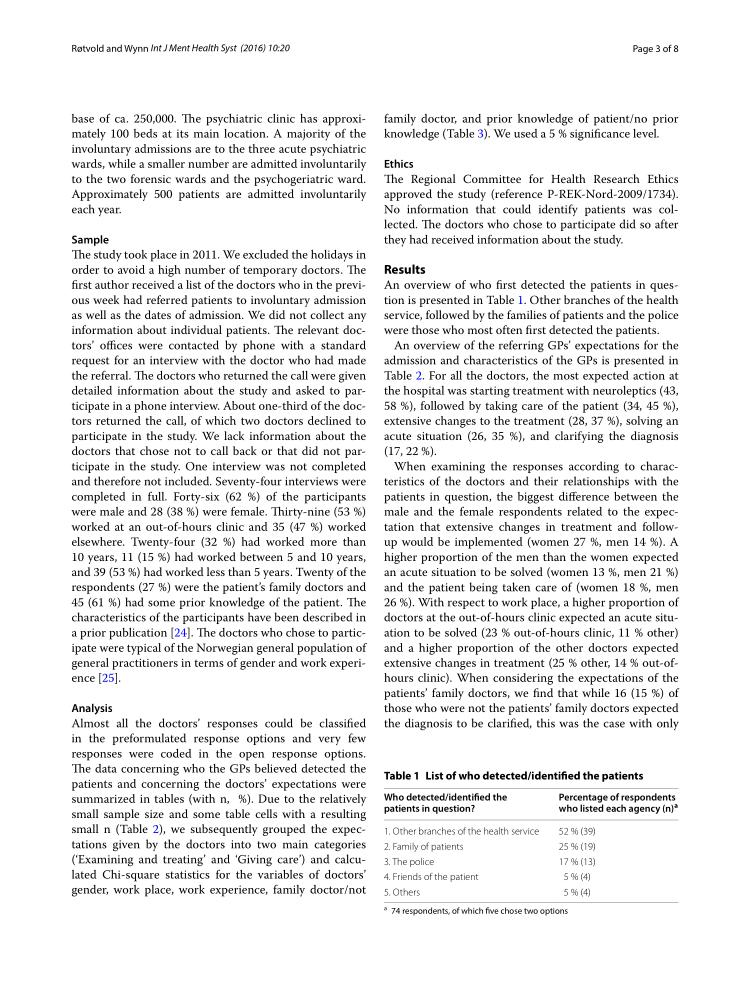table: (383, 790, 677, 897)
